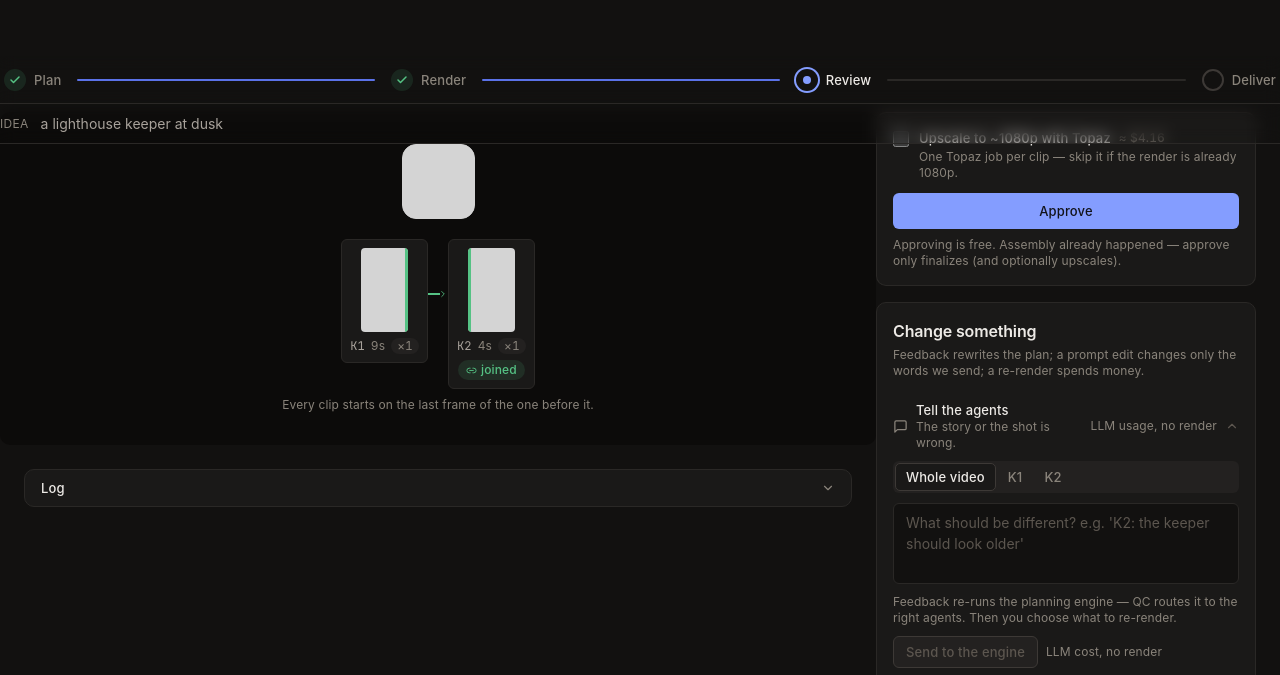
Test case: PromptSheet › shows the job's own prompt body and the reference legend that rides with it
Expected: the element named "Review stage" is shown, [0,112,876,445]
Click the button "K2 4s ×1 joined": [491, 314] box [448,239,535,389]
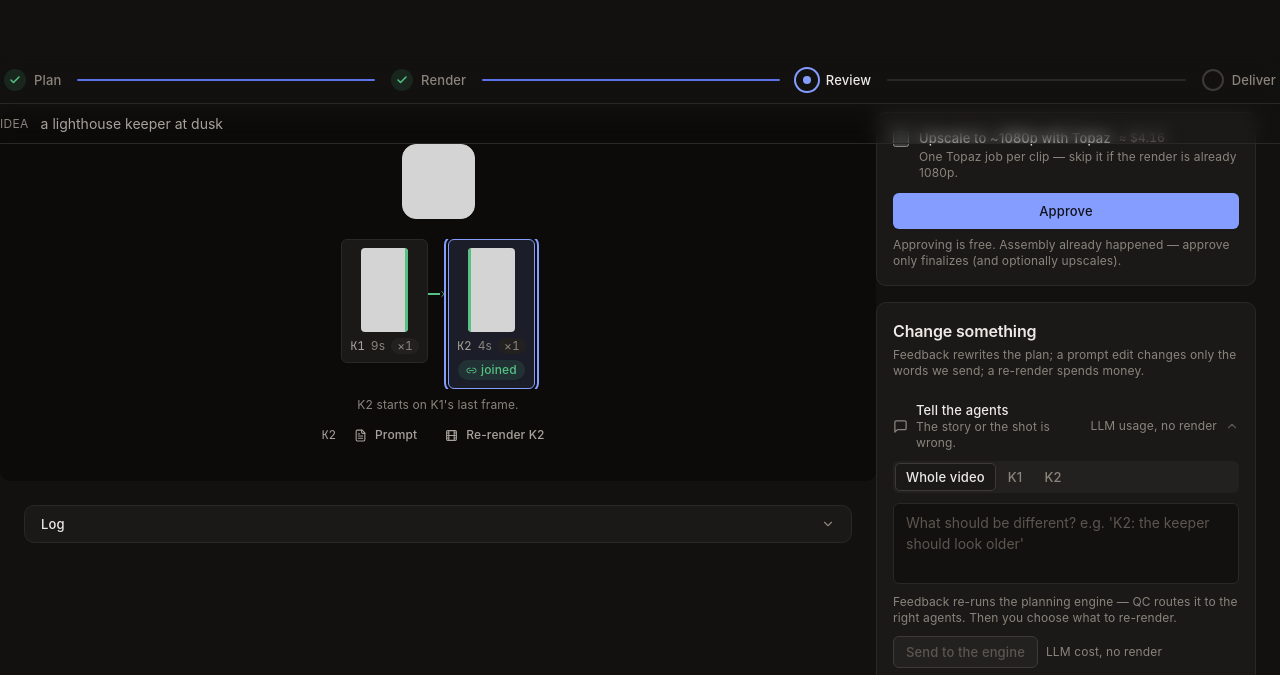
Click the button with aria-label "Prompt for K2": [386, 435] box [344,421,427,449]
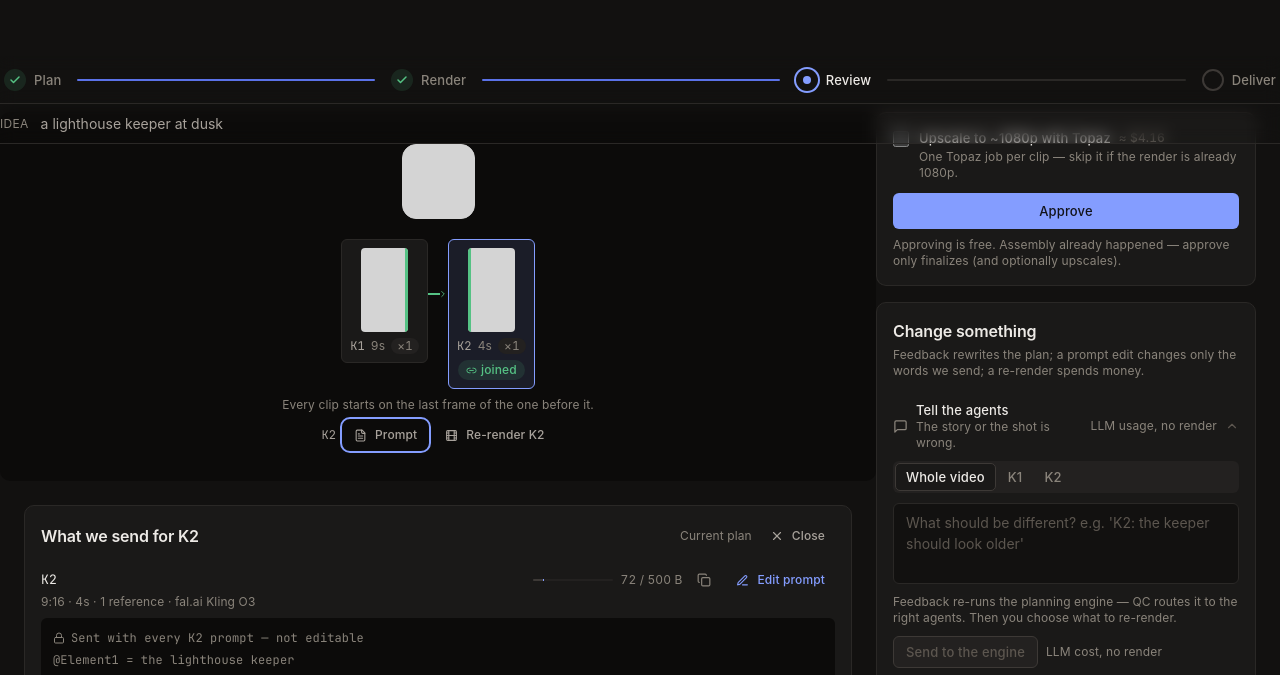
Expected: the heading "What we send for K2" is shown, [41,524,199,548]
Expected: the element with test id "prompt-sheet" shows "Sent with every K2 prompt — not editable", [71,630,364,646]
Expected: the button "Edit prompt" is shown, [726,566,835,594]
